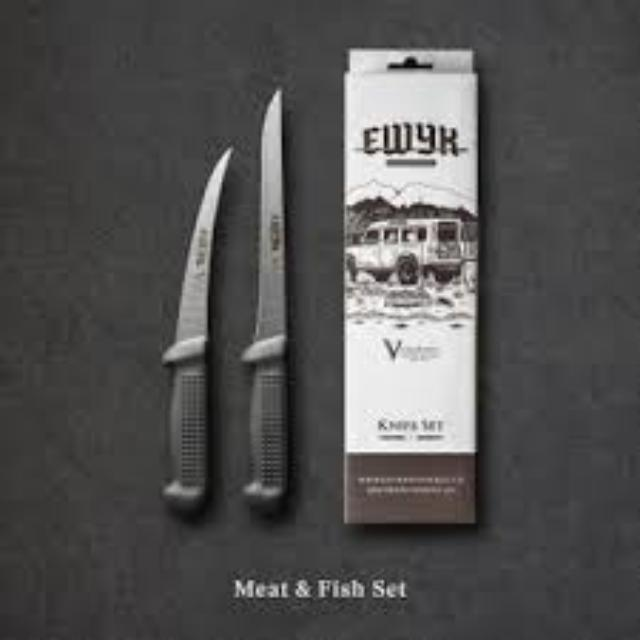Knife: (160, 143, 232, 515), (239, 86, 287, 508)
